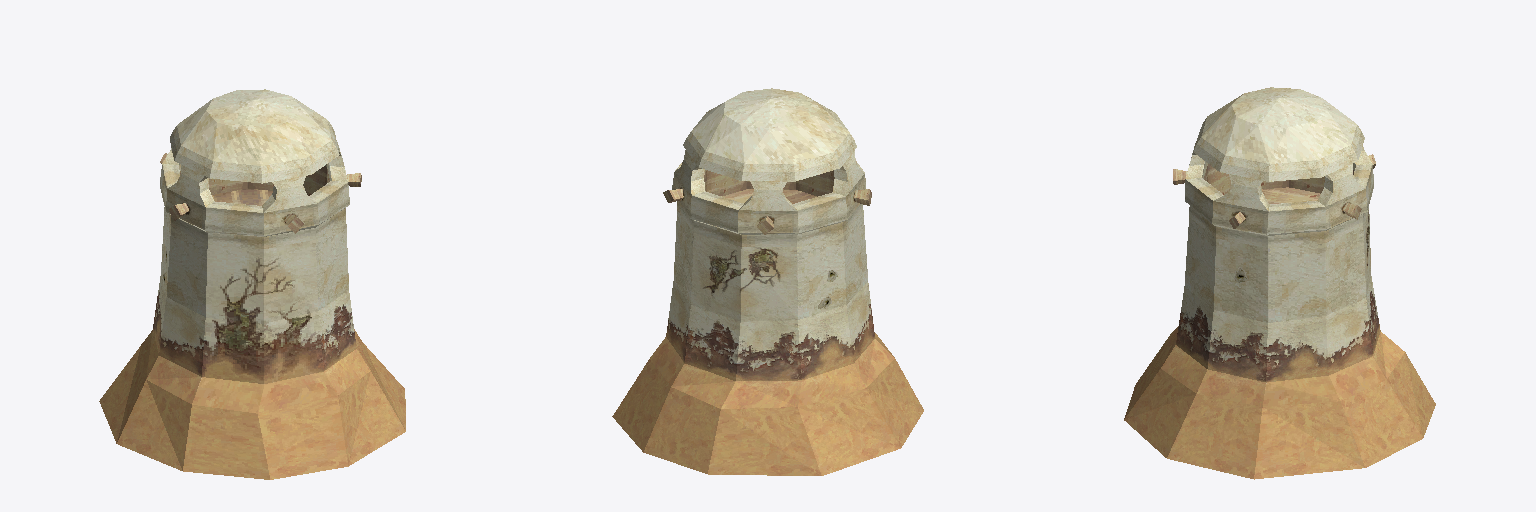
3 views of the same model, side by side, from view 1: azimuth 30°, elevation 25°; view 2: azimuth 150°, elevation 25°; view 3: azimuth 270°, elevation 25° (orthographic).
Visible parts, largest first — view 1: Node 0; view 2: Node 0; view 3: Node 0.
Boxes of the visible parts, box(x1,y1,x2,y2) form: Node 0: box(99, 89, 405, 479); Node 0: box(612, 88, 923, 475); Node 0: box(1124, 87, 1435, 479).
Size of the model in its own units: 14.62 by 16.1 by 14.5.
Materials: 4 (4 with a texture image).